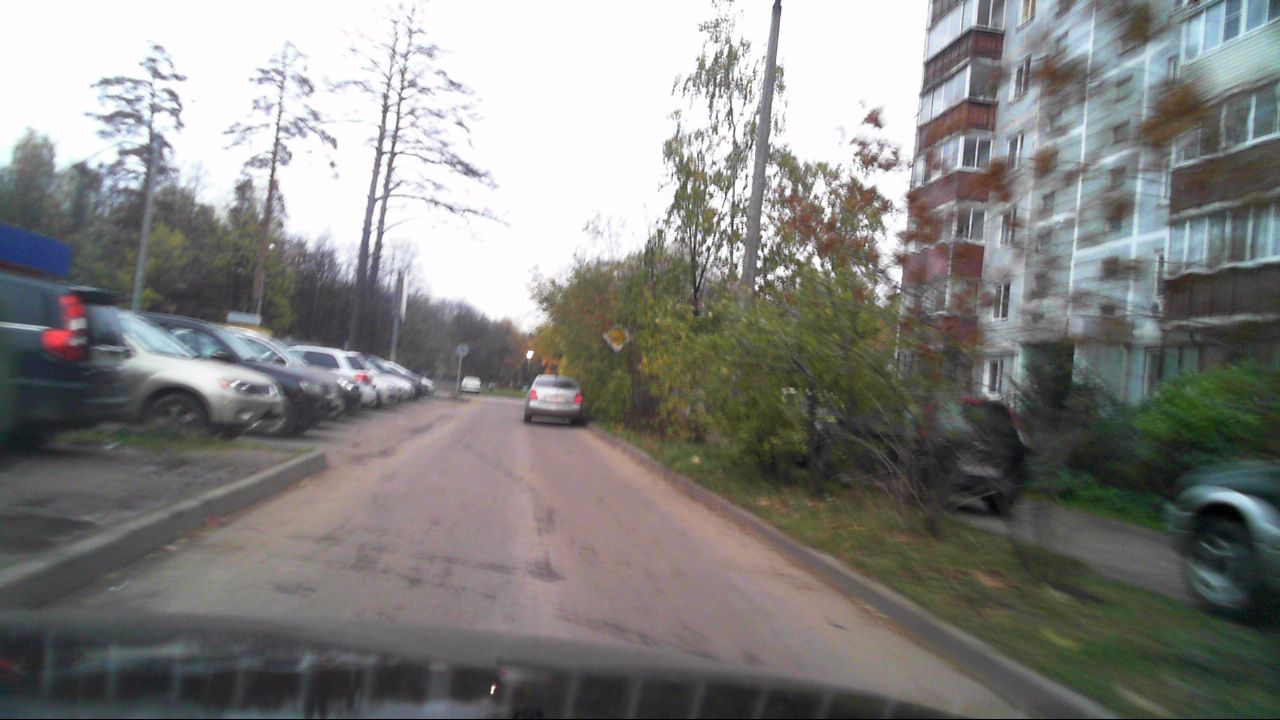main road: (601, 322, 632, 350)
